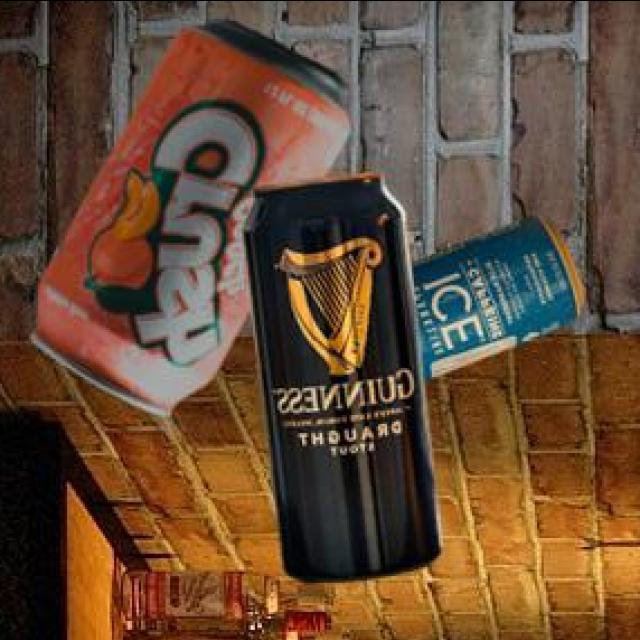logam: (35, 21, 355, 420), (247, 176, 446, 585), (413, 218, 587, 384)
